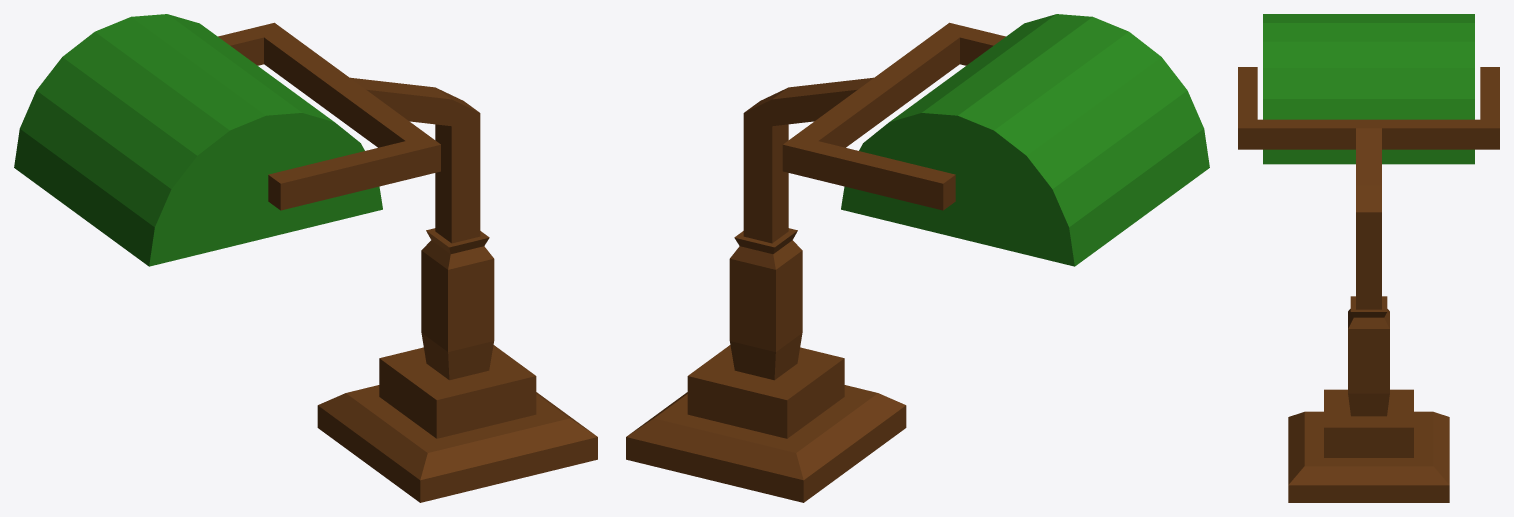
Rendered from DeskLamp.fbx.
3 renders of one model, left to right at view 1: azimuth 30°, elevation 25°; view 2: azimuth 150°, elevation 25°; view 3: azimuth 270°, elevation 25°, orthographic. The views are drawn at different scales.
Visible parts, largest first — view 1: Stand, Lamp; view 2: Stand, Lamp; view 3: Stand, Lamp.
Boxes of the visible parts, x1=… form: Stand: x1=218, y1=22, x2=597, y2=502; Lamp: x1=14, y1=14, x2=382, y2=266; Stand: x1=626, y1=22, x2=1005, y2=502; Lamp: x1=841, y1=14, x2=1209, y2=266; Stand: x1=1238, y1=67, x2=1499, y2=502; Lamp: x1=1263, y1=14, x2=1474, y2=164.
Size of the model in its own units: 215 by 194 by 133.
